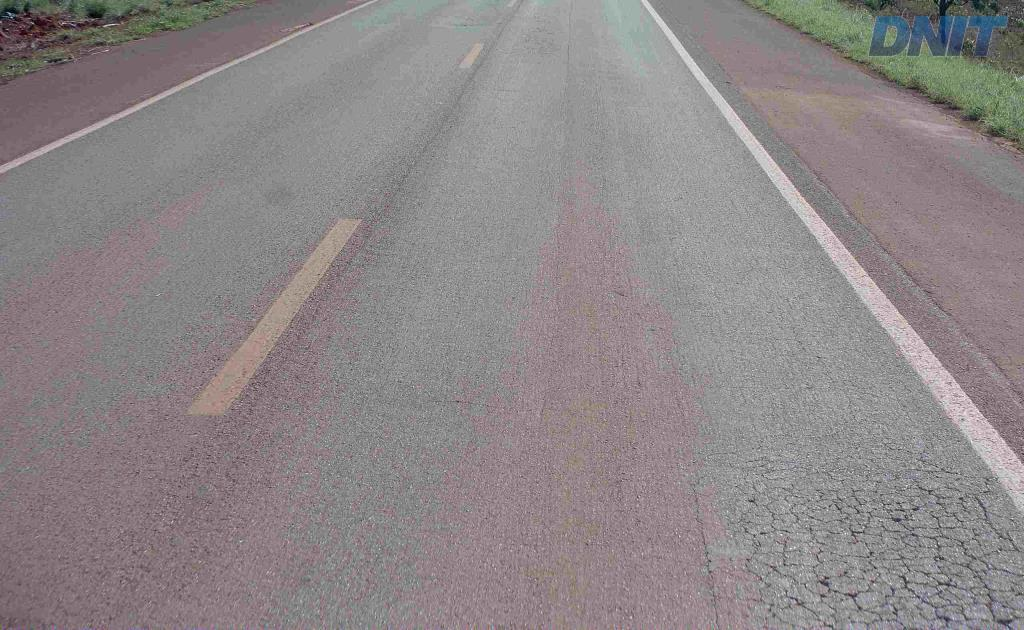crack: (854, 475, 1023, 601)
